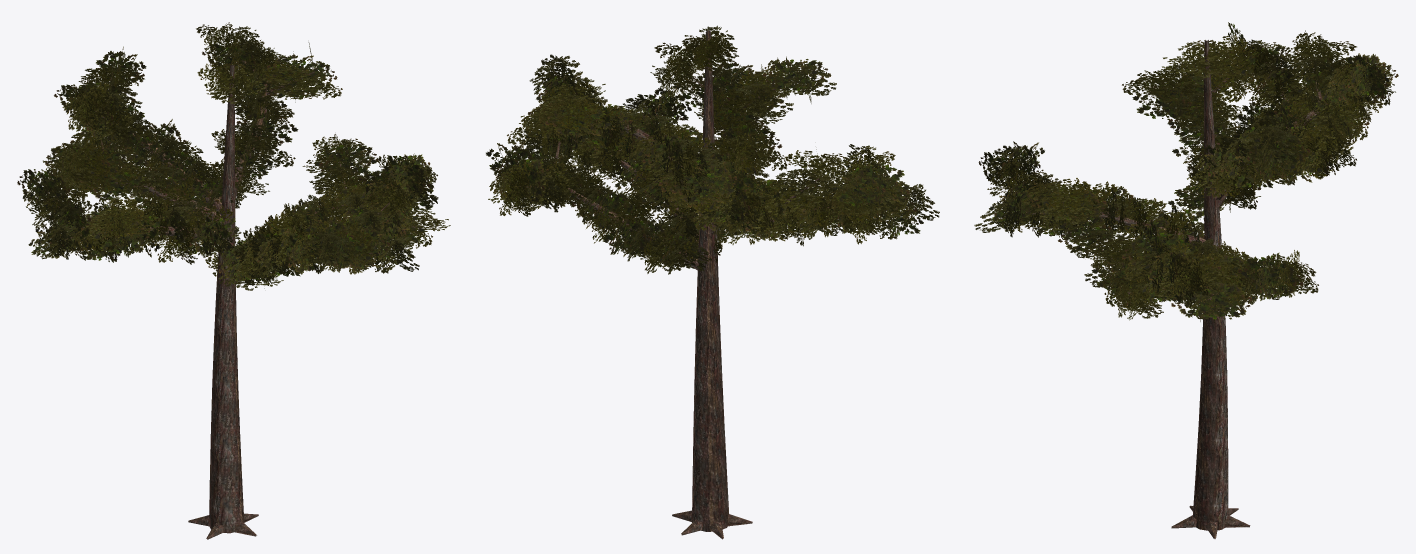
The model's file is tree_3d_03_lod0.glb.
The picture shows the model from 3 angles, left to right: view 1: azimuth 30°, elevation 25°; view 2: azimuth 150°, elevation 25°; view 3: azimuth 270°, elevation 25°; orthographic projection. The views are drawn at different scales.
Visible parts, largest first — view 1: foliage_cards, wood_geometry; view 2: foliage_cards, wood_geometry; view 3: foliage_cards, wood_geometry.
Part boxes in pixels (x1,y1,x2,y2): foliage_cards: [17, 22, 450, 290]; wood_geometry: [45, 46, 416, 539]; foliage_cards: [486, 25, 939, 274]; wood_geometry: [520, 30, 896, 539]; foliage_cards: [974, 22, 1398, 322]; wood_geometry: [1012, 40, 1371, 538].
Size of the model in its own units: 9.89 by 10.63 by 8.44.
Materials: 2 (2 with a texture image).
